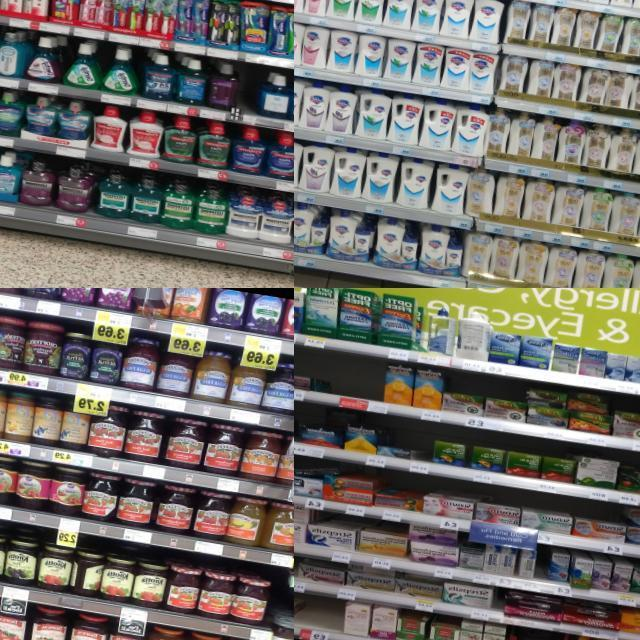empty: (330, 354, 386, 412), (297, 595, 344, 640), (234, 64, 258, 124), (410, 426, 435, 474)
